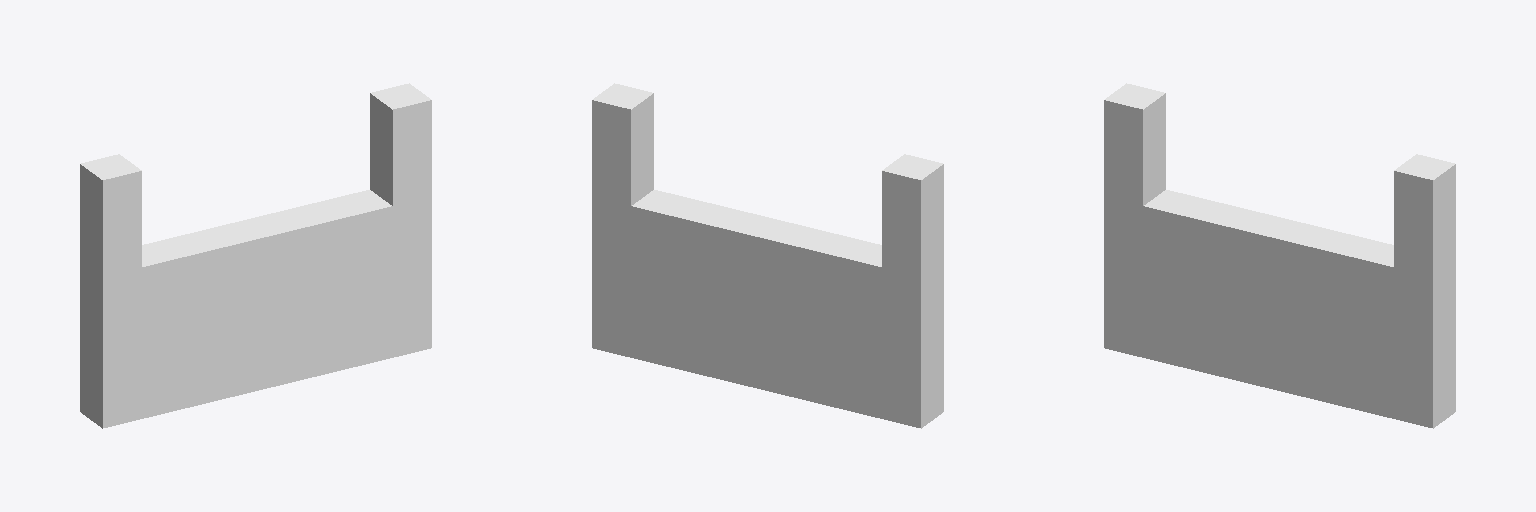
The model's file is Sign.obj.
3 renders of one model, left to right at view 1: azimuth 30°, elevation 25°; view 2: azimuth 150°, elevation 25°; view 3: azimuth 330°, elevation 25°, orthographic.
Size of the model in its own units: 25 by 18 by 3.